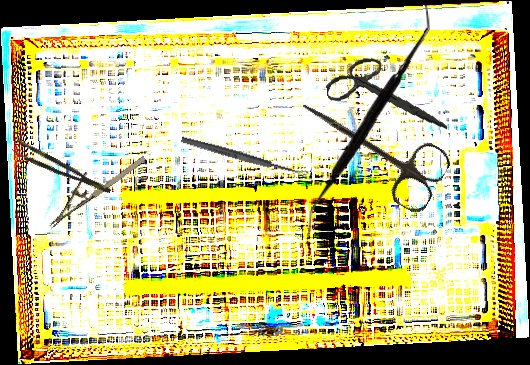Iris Scissors: (284, 78, 455, 217), (323, 49, 448, 144)
Needle Holder: (35, 140, 149, 229)
Spatula Surgical: (301, 5, 434, 233)
Surgical Spoon: (180, 135, 309, 180)
Tissue Forceps: (11, 138, 112, 202)
